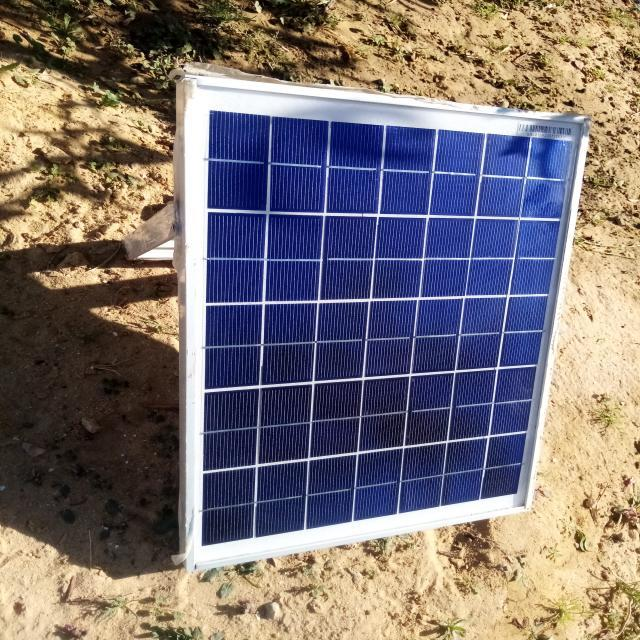no faulty: (189, 77, 589, 568)
